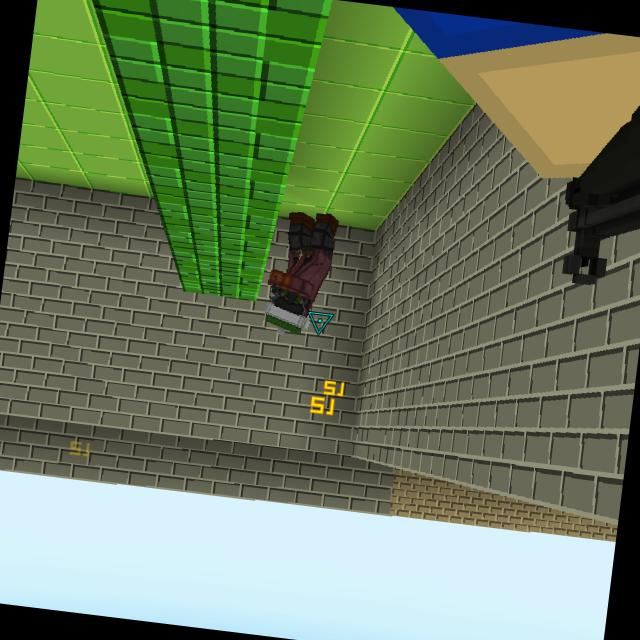enemy: (257, 206, 342, 341)
